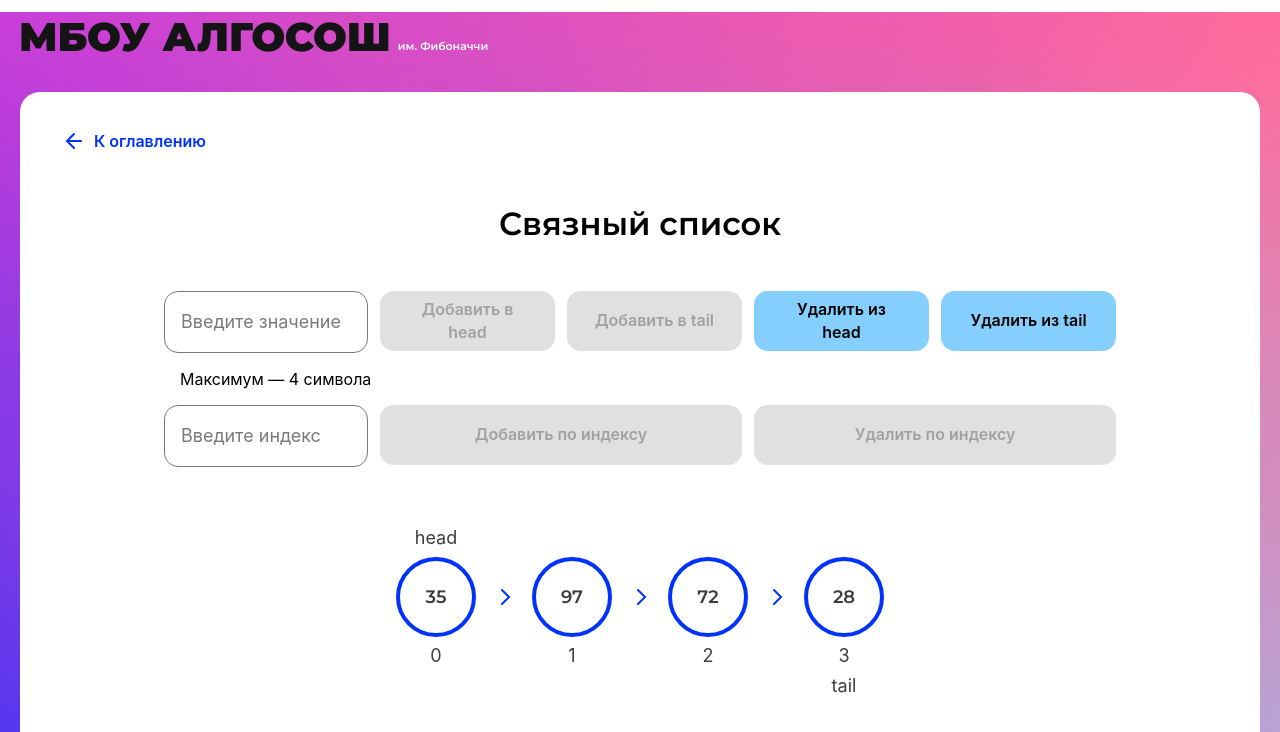
Test: liked-list functionality works correctly › removing element from head works properly
Type "🐝" into the field with test id "input-for-value".
click(266, 322); type("🐝")  # box [164,291,368,353]
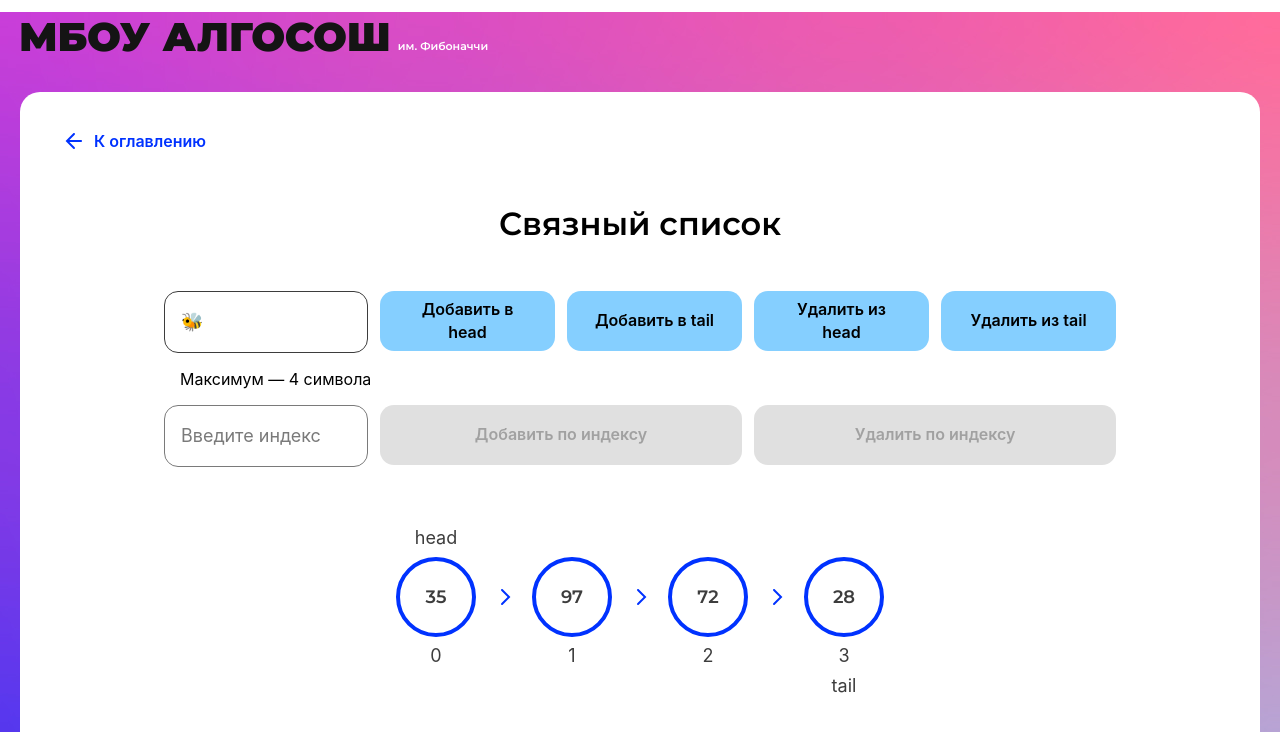
Check: the element with test id "add-to-head-button" is enabled
Click the button with test id "add-to-head-button".
click(468, 321)  # box [380,291,555,351]
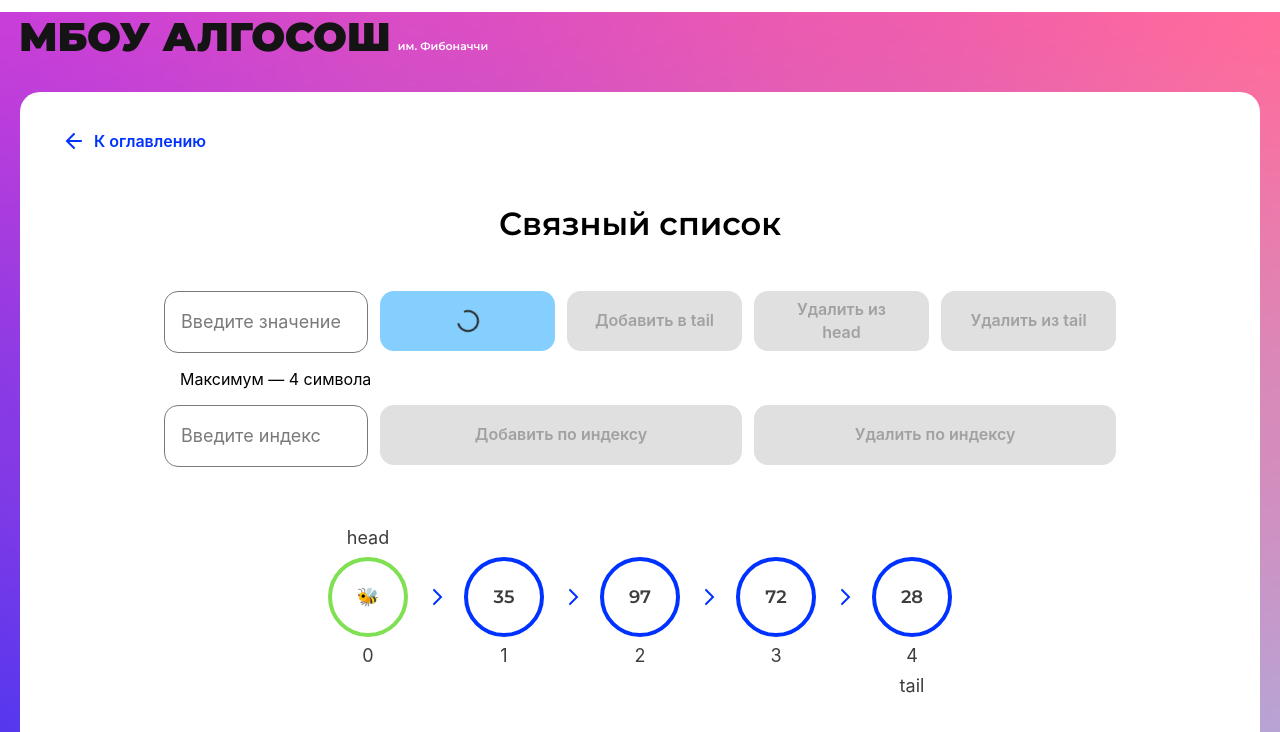
Type "🍯" into the field with test id "input-for-value".
click(266, 322); type("🍯")  # box [164,291,368,353]
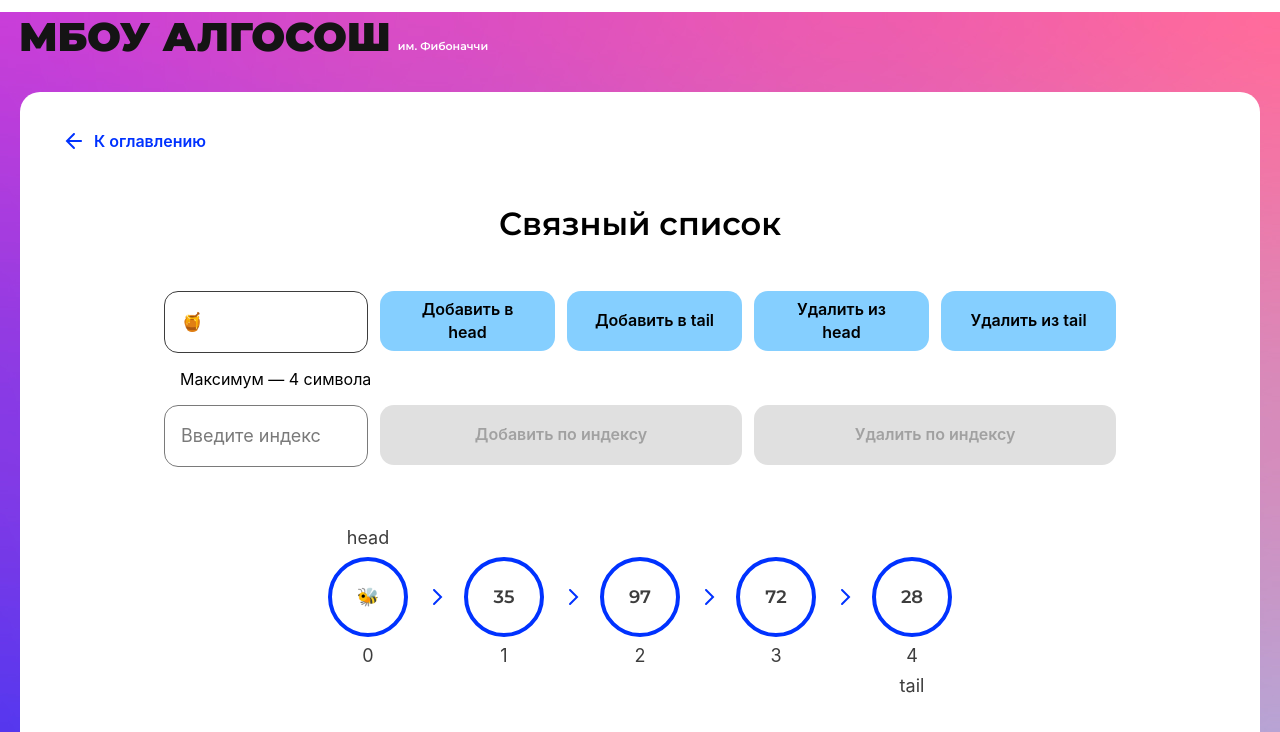
Check: the element with test id "add-to-head-button" is enabled
Click the button with test id "add-to-head-button".
click(468, 321)  # box [380,291,555,351]
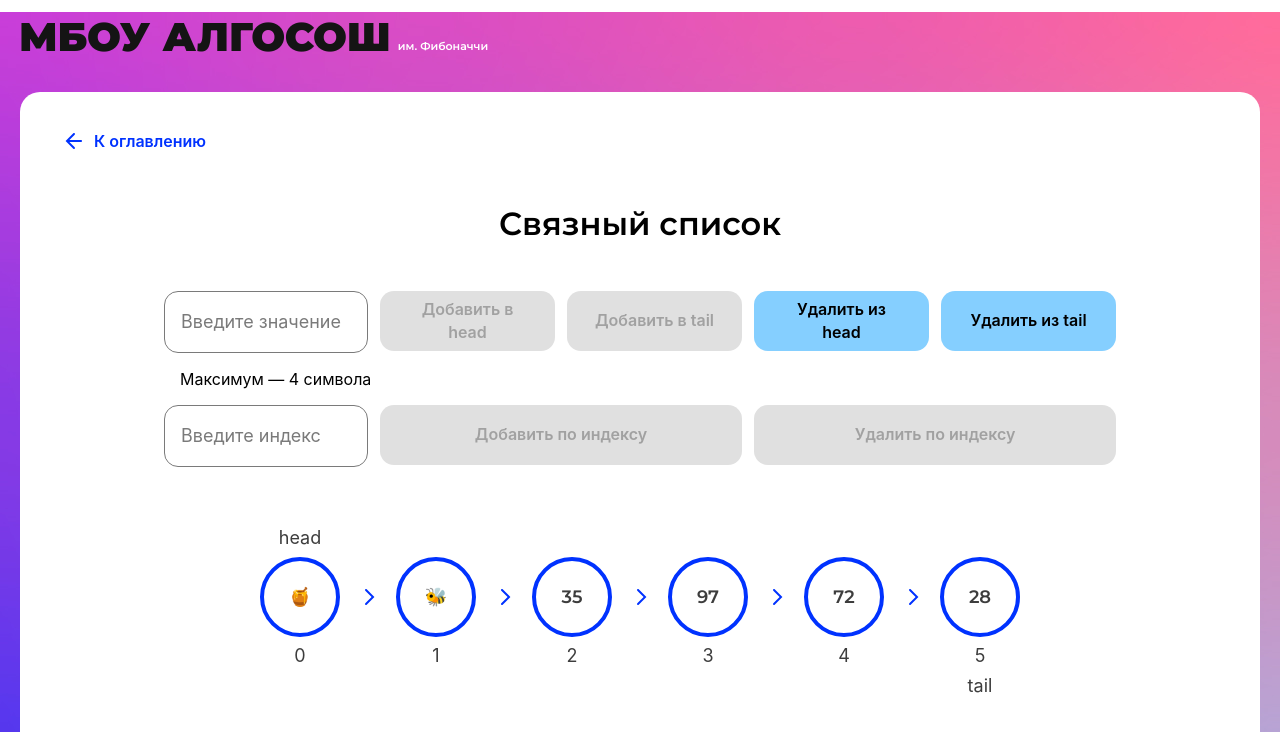
Check: the element with test id "circle" showing "🍯" is shown, box [260,557,340,637]
Check: the element with test id "remove-from-head-button" is enabled
Click the button with test id "remove-from-head-button".
click(842, 321)  # box [754,291,929,351]
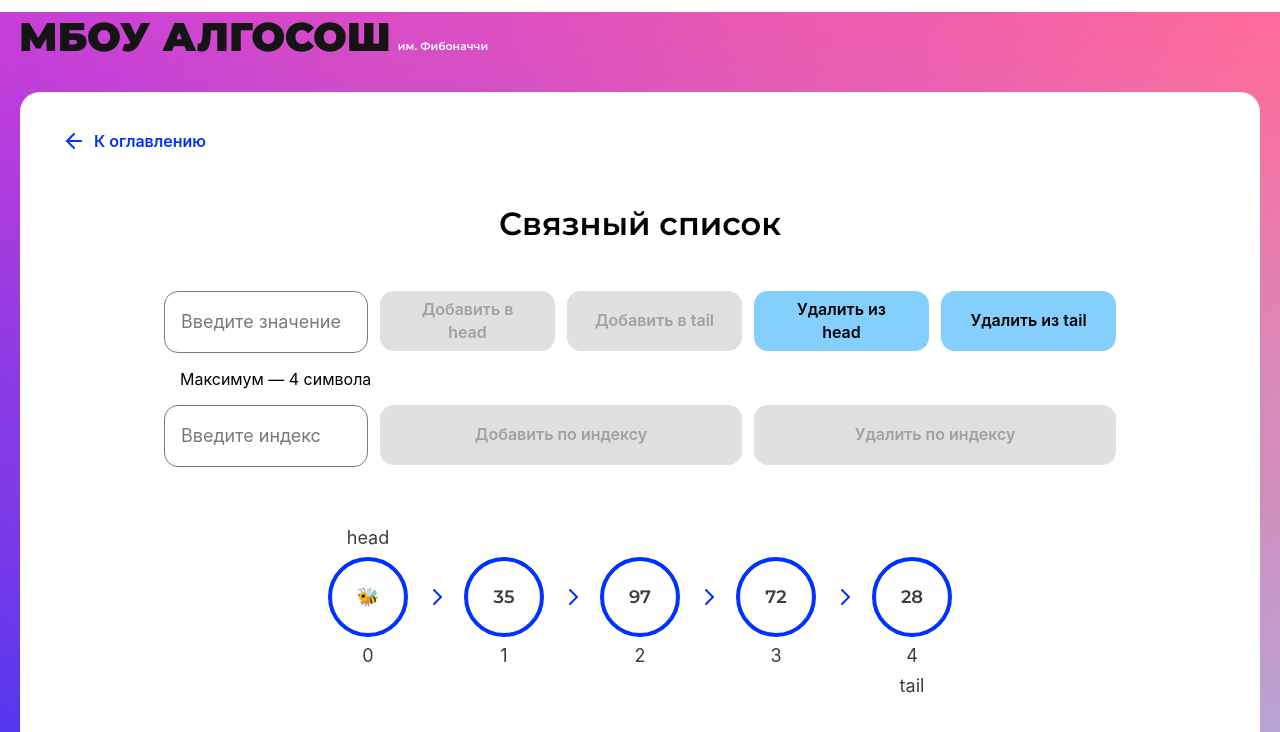
Check: the text "head" is shown, box [347,527,389,549]
Check: the element with test id "circle" reads "🐝", box [328,557,408,637]
